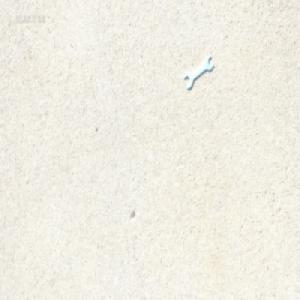Wrench: (183, 58, 210, 92)
